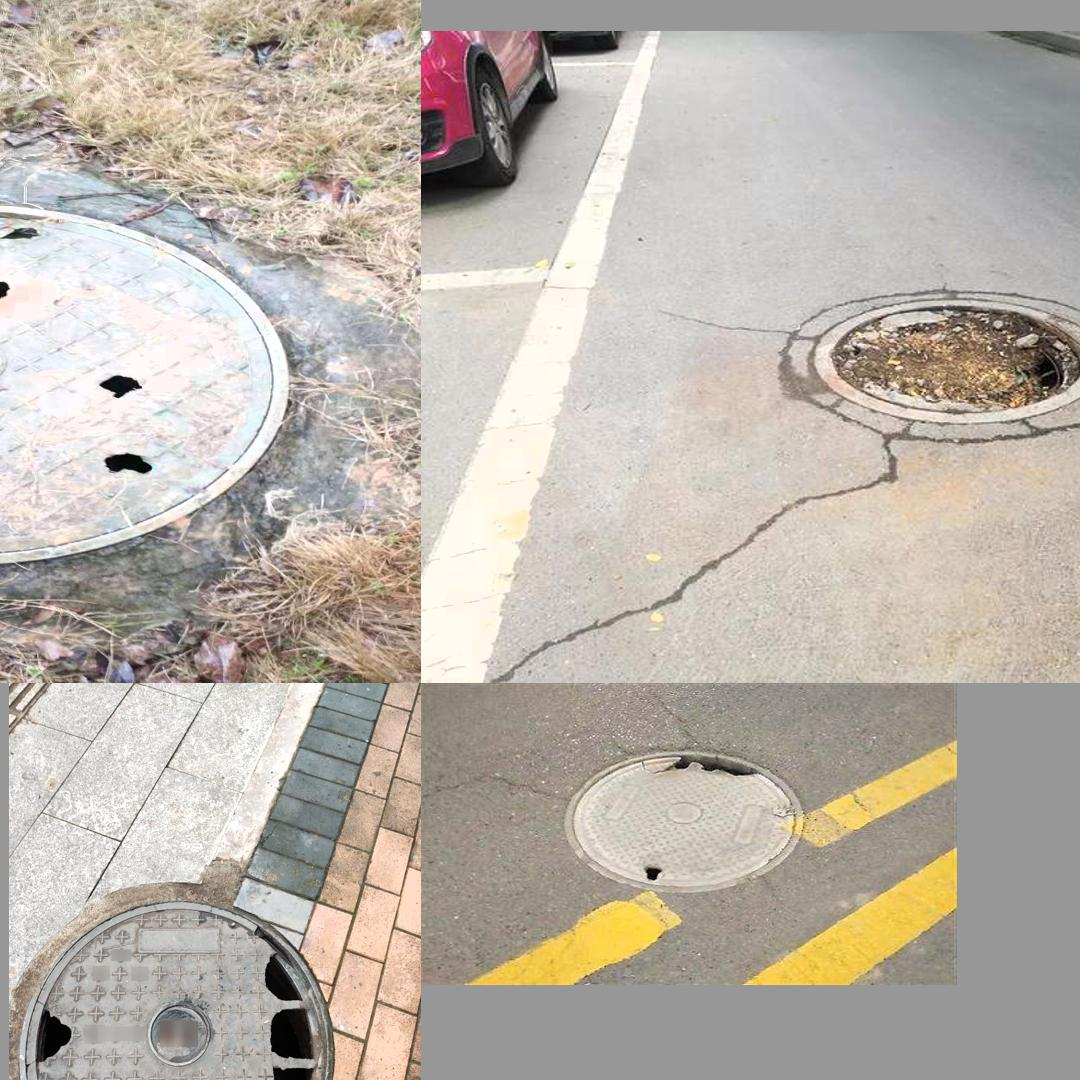broke: (0, 202, 289, 566), (771, 267, 1080, 453), (24, 921, 325, 1080), (556, 742, 816, 898)
